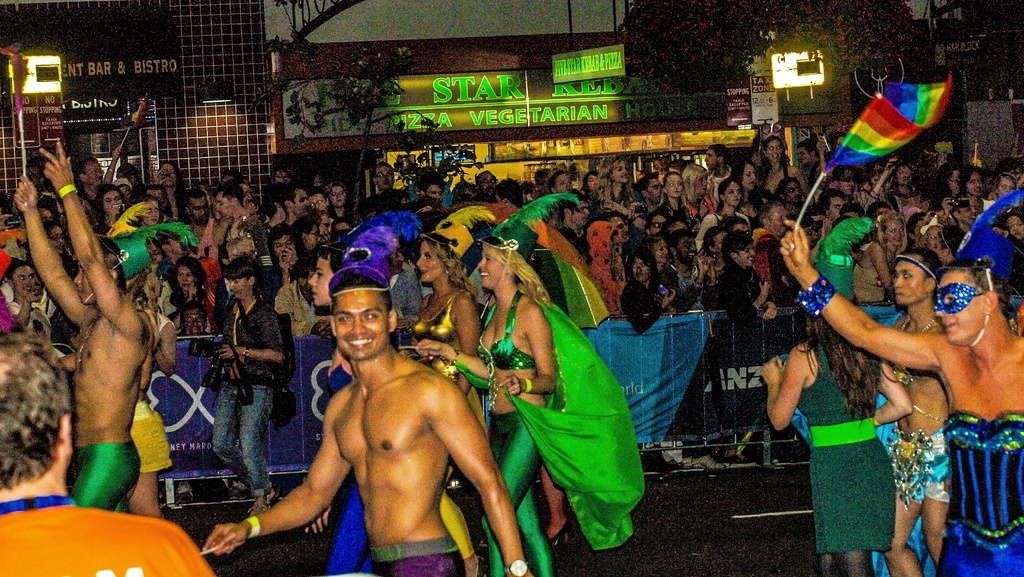person: (954, 163, 994, 212)
